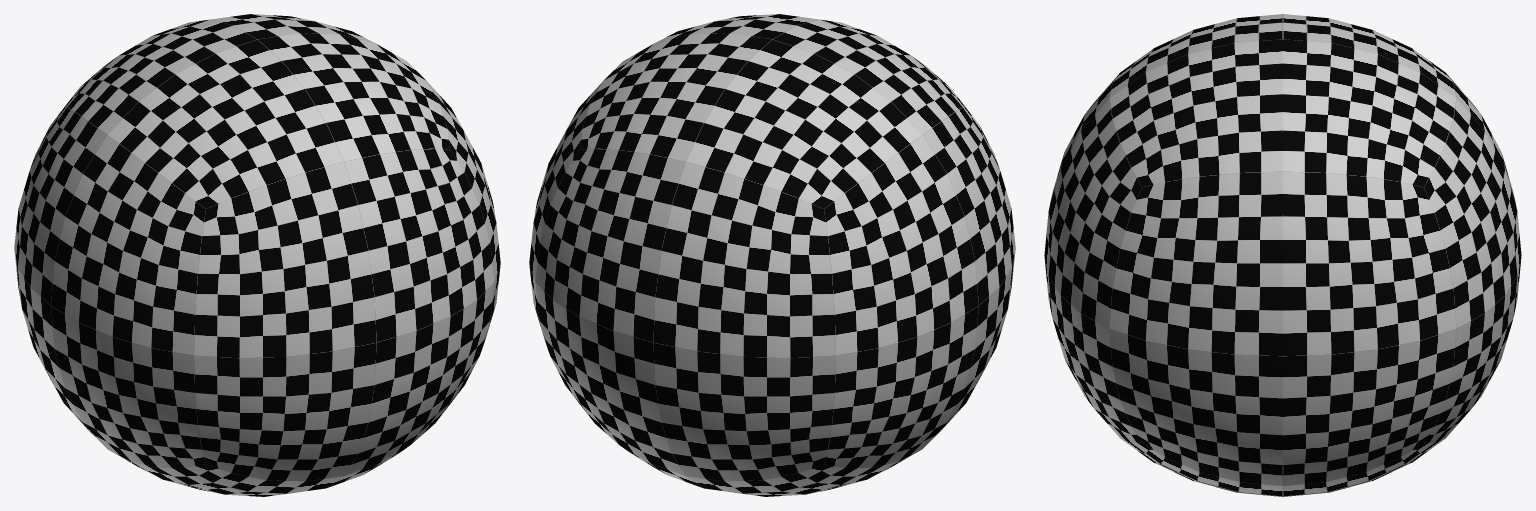
Rendered from fx_sky_sphere.obj.
The picture shows the model from 3 angles, left to right: view 1: azimuth 30°, elevation 25°; view 2: azimuth 150°, elevation 25°; view 3: azimuth 270°, elevation 25°; orthographic projection.
Visible parts, largest first — view 1: pCube1; view 2: pCube1; view 3: pCube1.
Part boxes in pixels (x1,y1,x2,y2): pCube1: [14, 14, 500, 496]; pCube1: [529, 14, 1015, 496]; pCube1: [1044, 14, 1521, 496].
Size of the model in its own units: 0.8492 by 0.8492 by 0.8492.
1 material, 1 textured.
